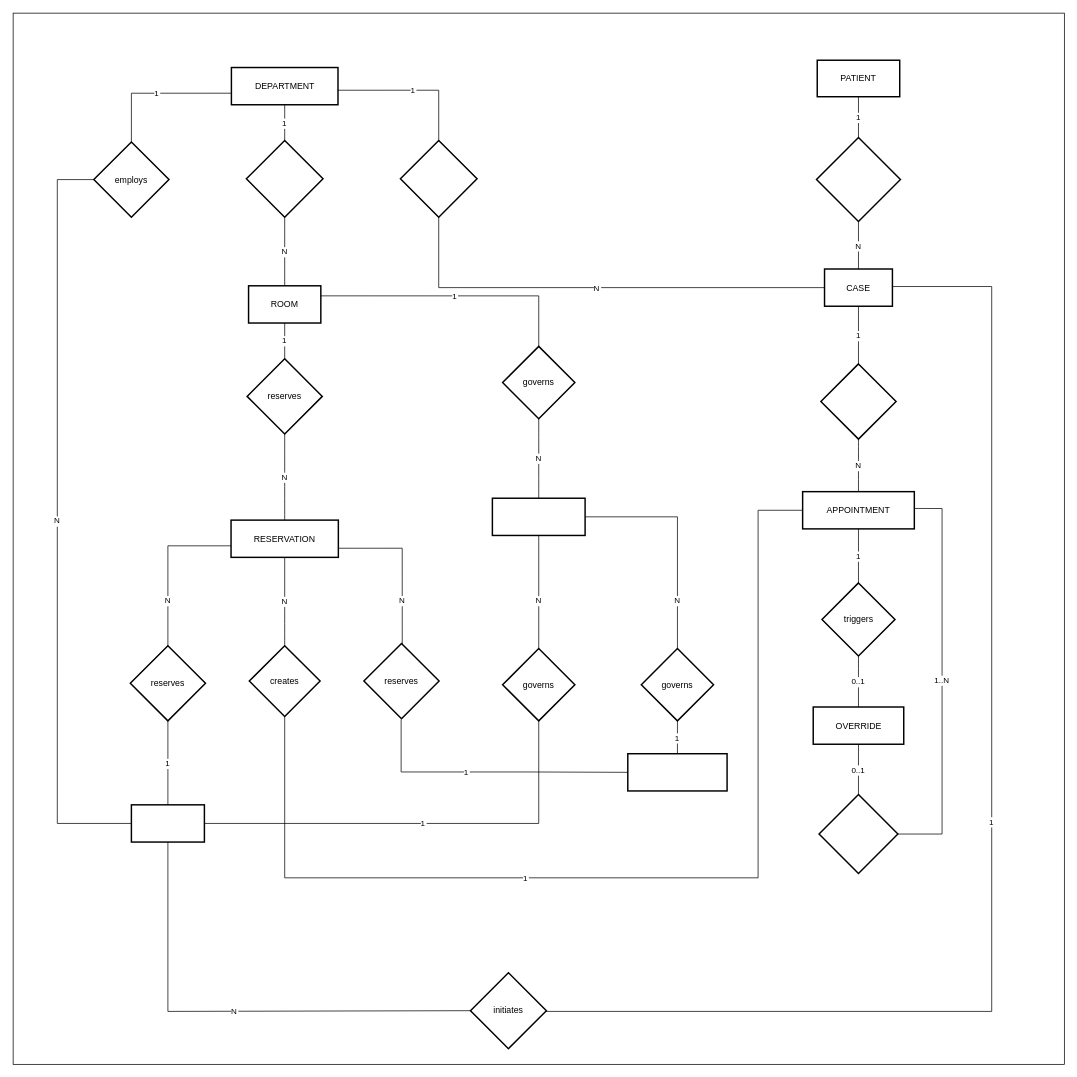
This 1077x1077 diagram has some shape labels left out. The box of each missing label's shape, as (x1, y1, x2, y2) in pixels:
displaces: (818, 794, 898, 874)
EQUIPMENT: (627, 753, 727, 791)
manages: (245, 139, 323, 218)
requests: (399, 139, 477, 218)
requires: (820, 363, 896, 439)
SCHEDULE: (491, 497, 585, 536)
STAFF: (130, 804, 205, 842)
undergoes: (815, 137, 901, 222)
